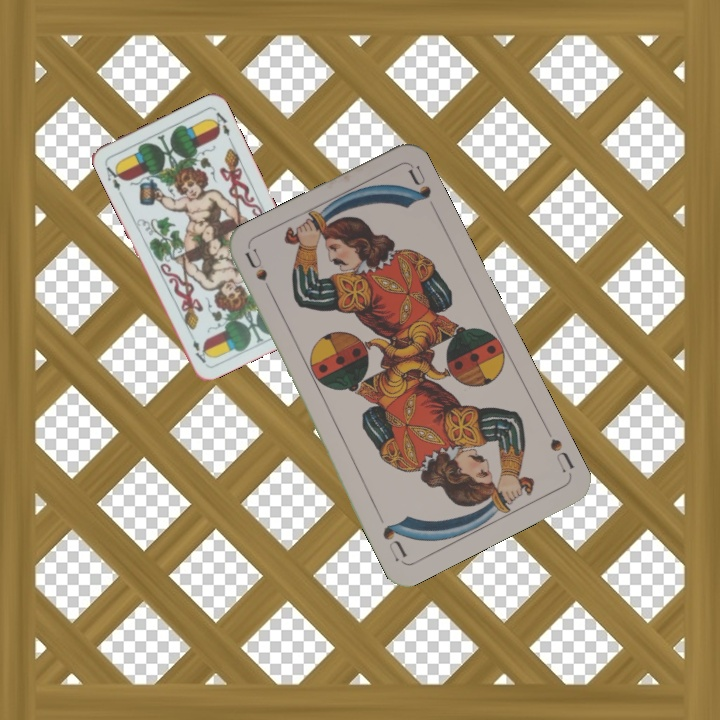EA: (101, 160, 125, 198)
SU: (241, 246, 278, 303), (540, 422, 577, 476)
